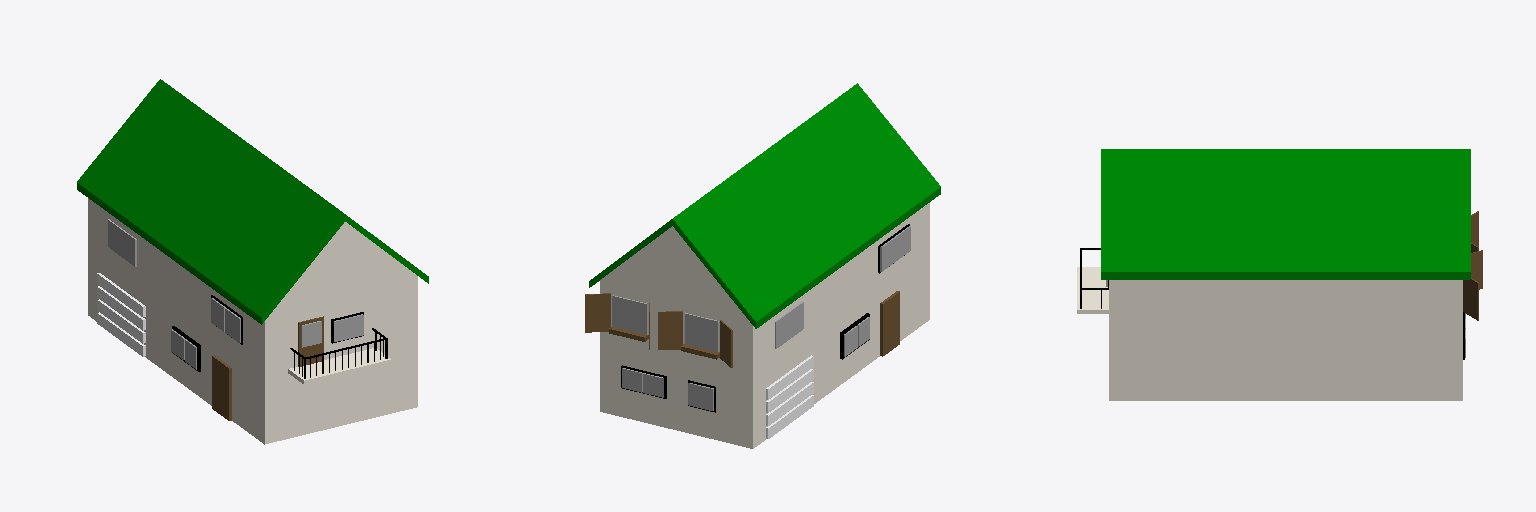
The model's file is detached_house_01c.obj.
3 views of the same model, side by side, from view 1: azimuth 30°, elevation 25°; view 2: azimuth 150°, elevation 25°; view 3: azimuth 270°, elevation 25° (orthographic).
Visible parts, largest first — view 1: Box45; view 2: Box45, Box70, Box69; view 3: Box45, Box70.
Boxes of the visible parts, <box> form: Box45: <box>77,79,428,444</box>; Box45: <box>589,83,940,448</box>; Box70: <box>585,293,610,332</box>; Box69: <box>658,311,682,349</box>; Box45: <box>1077,149,1470,400</box>; Box70: <box>1463,278,1478,320</box>.
Bounding box in the file's own units: 12.02 × 14.72 × 25.23.